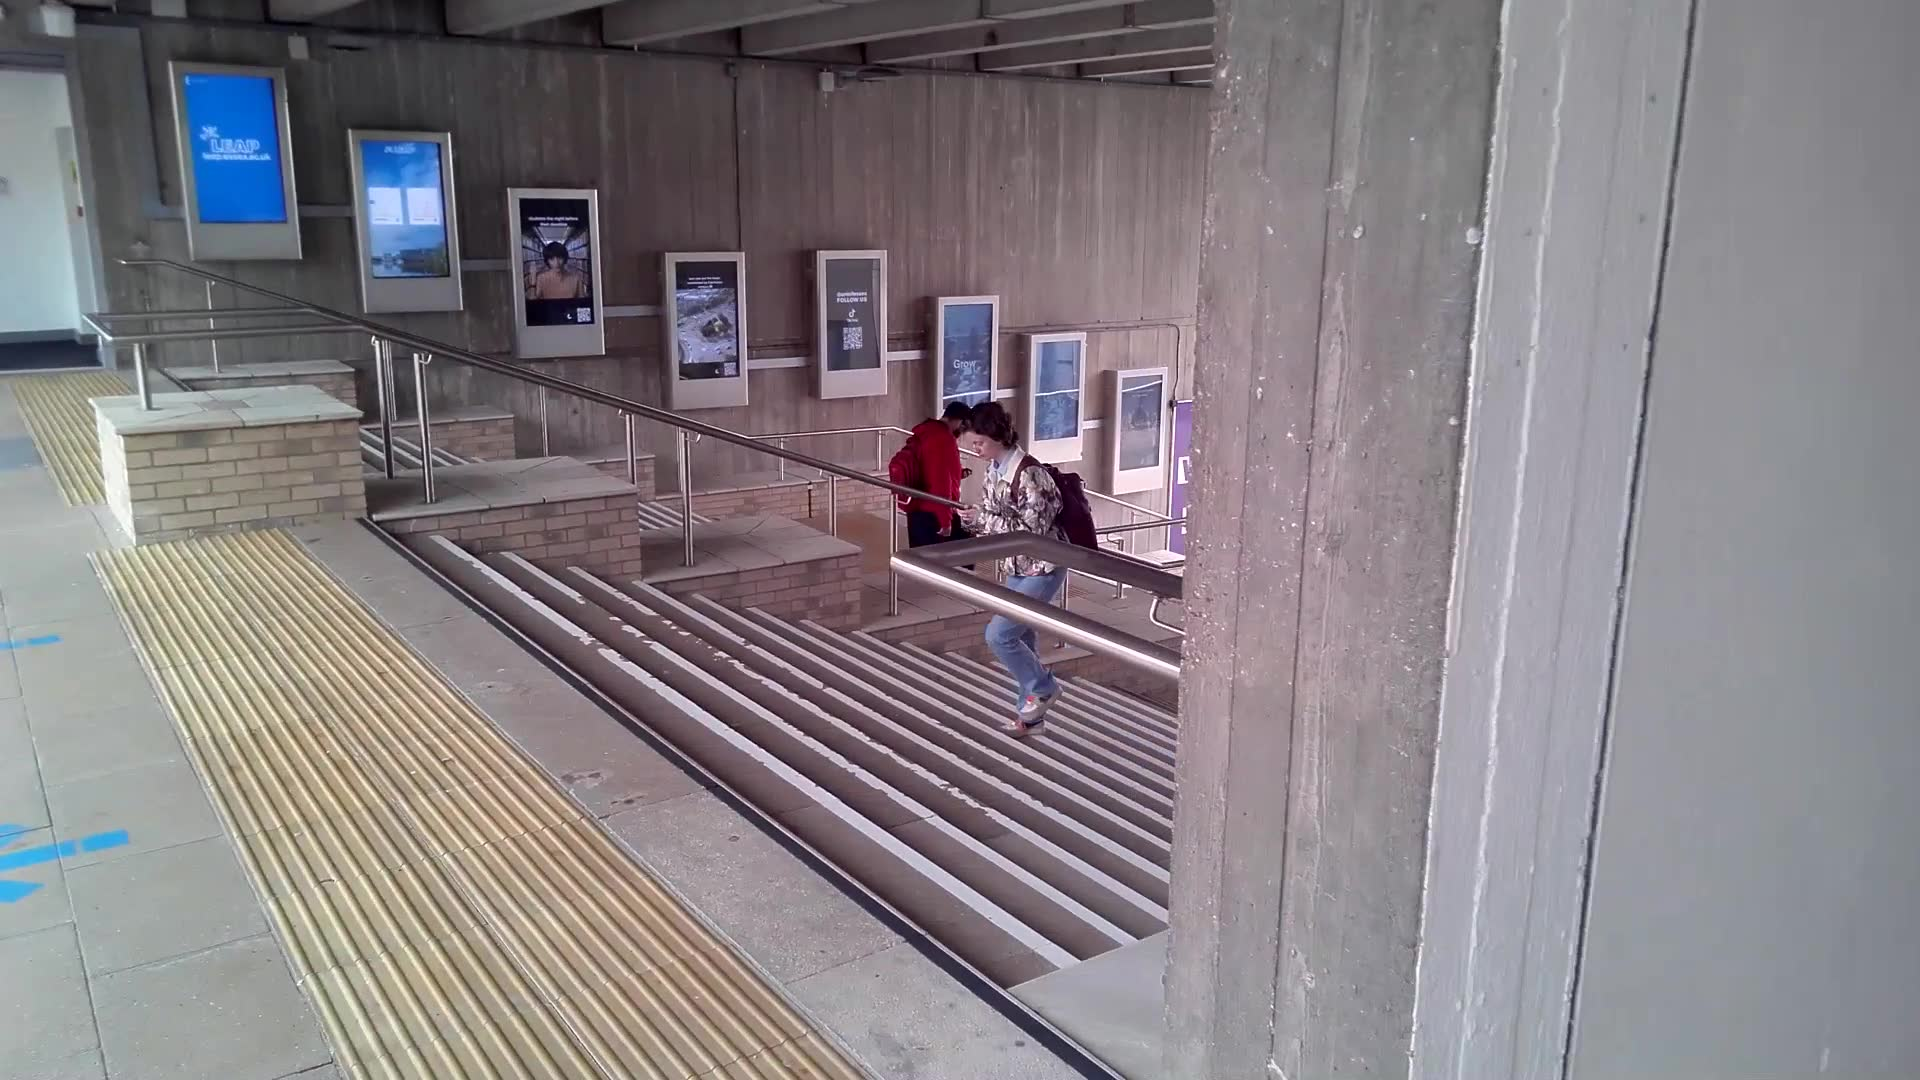Backpack: (1052, 455, 1101, 559), (888, 431, 933, 526)
Person: (970, 395, 1065, 729), (920, 395, 976, 573)
Stairs: (632, 652, 1200, 1001)
